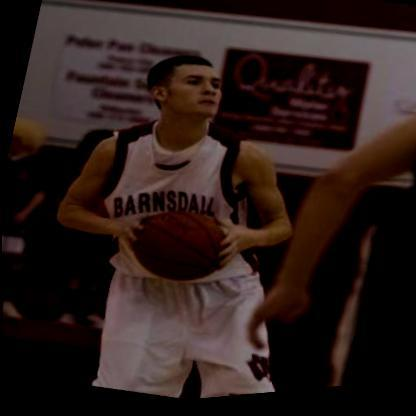basketball: (118, 192, 248, 307)
